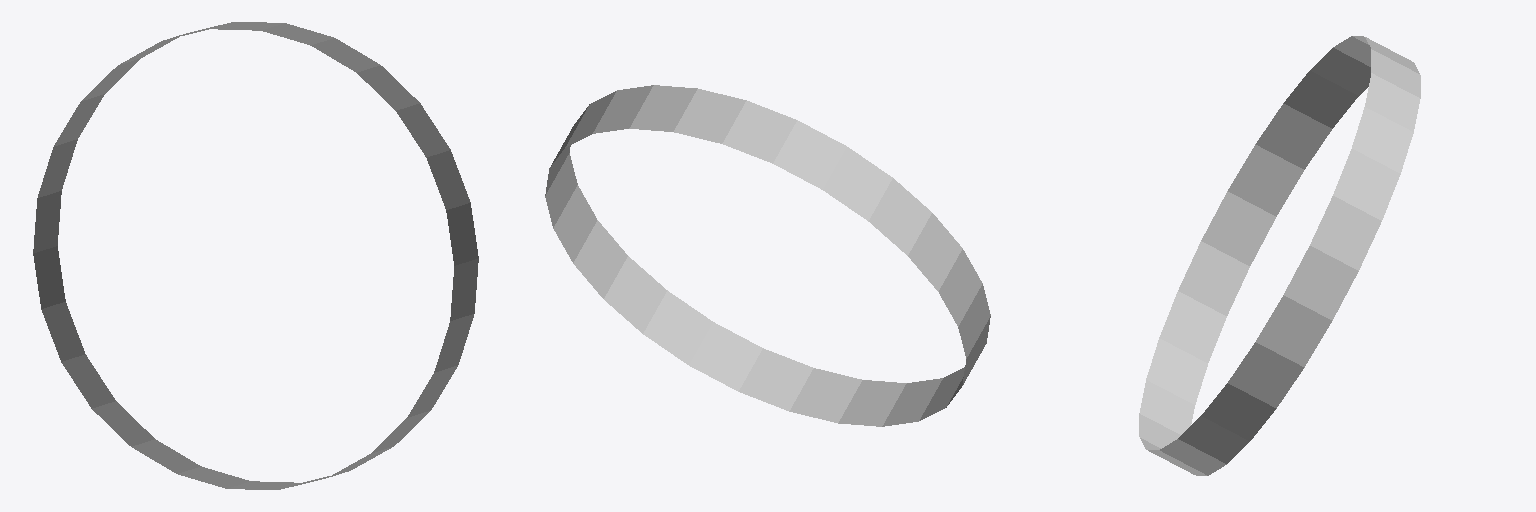
The model's file is IonPlasmaRingMid.obj.
3 renders of one model, left to right at view 1: azimuth 30°, elevation 25°; view 2: azimuth 150°, elevation 25°; view 3: azimuth 270°, elevation 25°, orthographic.
Visible parts, largest first — view 1: Sphere_1; view 2: Sphere_1; view 3: Sphere_1.
Boxes of the visible parts, box(x1,y1,x2,y2) form: Sphere_1: box(33, 22, 478, 489); Sphere_1: box(545, 85, 990, 426); Sphere_1: box(1139, 36, 1420, 475).
Size of the model in its own units: 0.0298 by 0.0274 by 0.0179.